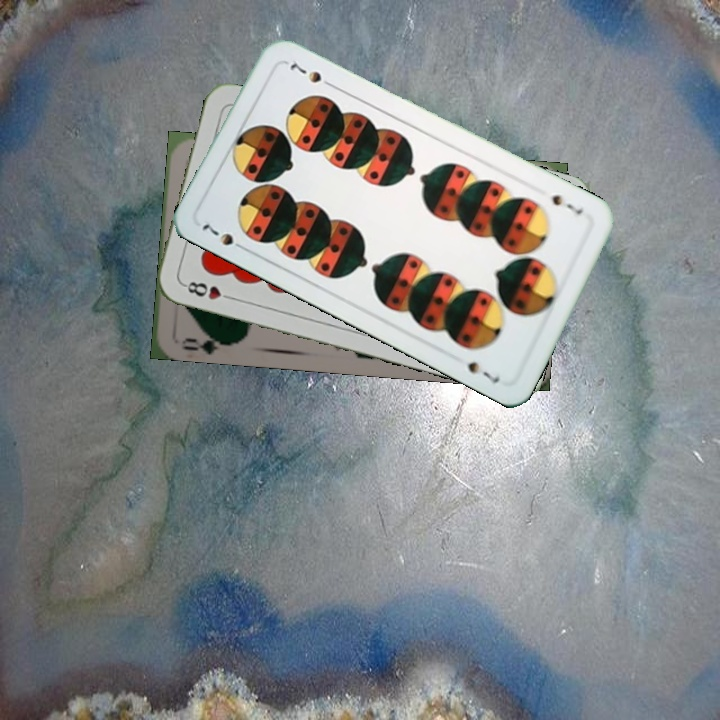GO: (177, 327, 235, 355)
H8: (179, 277, 237, 303)
S7: (197, 220, 250, 254), (547, 190, 586, 217)
